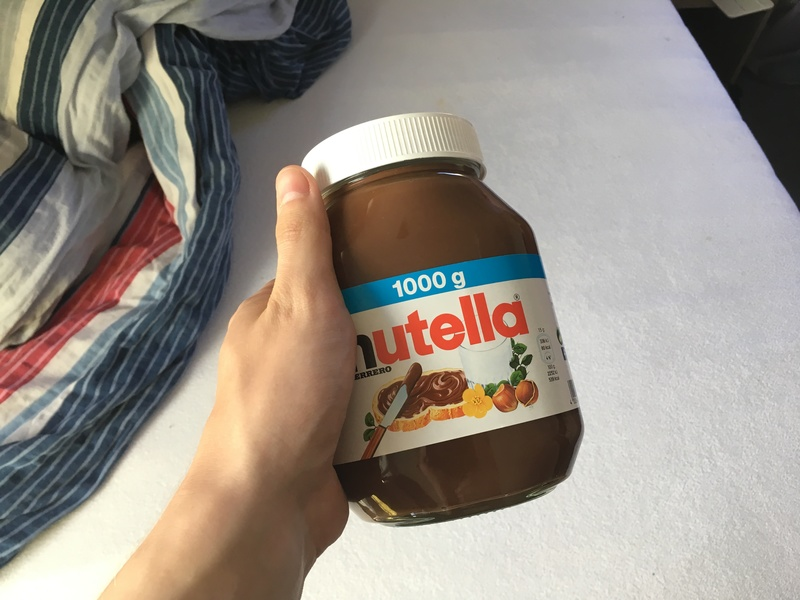nutella: (300, 111, 585, 526)
